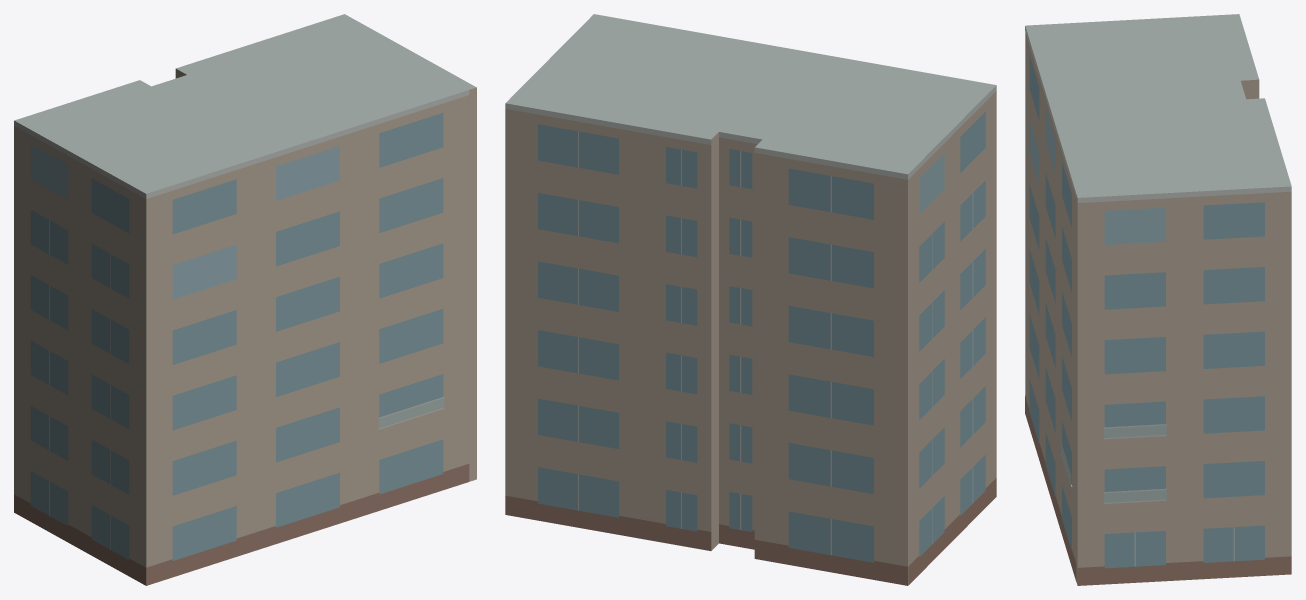
The model's file is survey-upis-32705534.glb.
3 renders of one model, left to right at view 1: azimuth 30°, elevation 25°; view 2: azimuth 150°, elevation 25°; view 3: azimuth 270°, elevation 25°, orthographic. The views are drawn at different scales.
Parts seen in each view (by area): view 1: survey-upis-32705534.tmp; view 2: survey-upis-32705534.tmp; view 3: survey-upis-32705534.tmp.
Part boxes in pixels (box(x1,y1,x2,y2)): survey-upis-32705534.tmp: box(14, 14, 476, 585); survey-upis-32705534.tmp: box(505, 14, 996, 585); survey-upis-32705534.tmp: box(1025, 14, 1291, 585).
Size of the model in its own units: 18.62 by 18.3 by 11.41.
